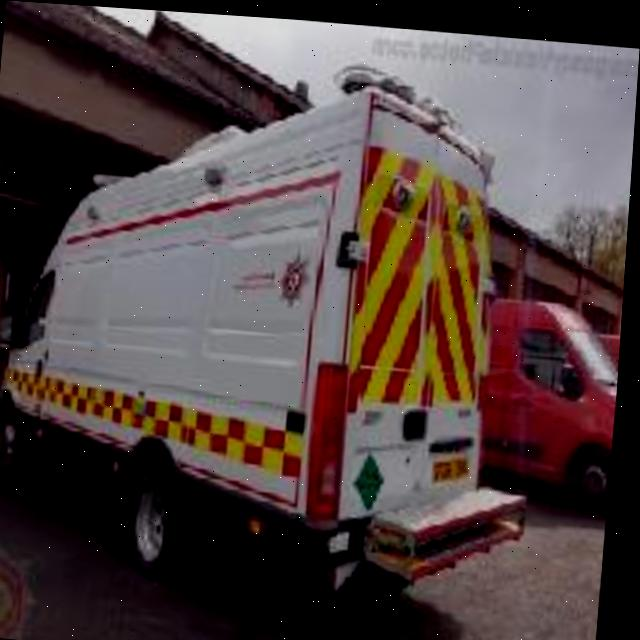emergency: (0, 45, 490, 604), (407, 264, 627, 536)
